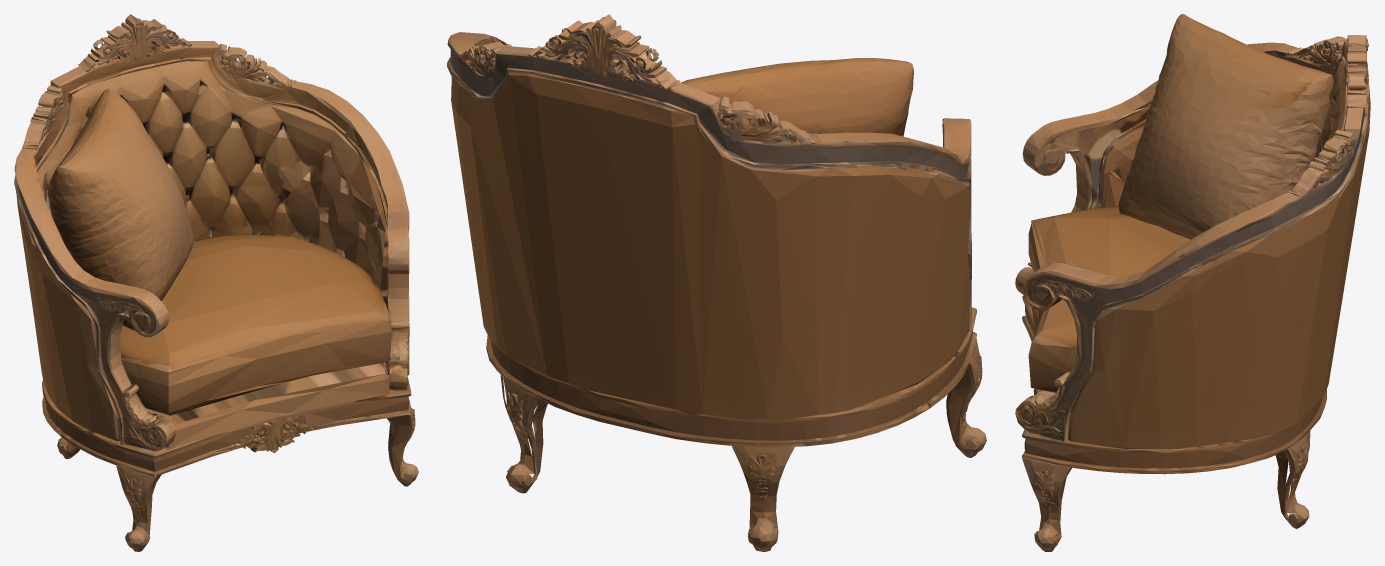
File: edited_mesh.glb
3 views of the same model, side by side, from view 1: azimuth 30°, elevation 25°; view 2: azimuth 150°, elevation 25°; view 3: azimuth 270°, elevation 25° (orthographic). The views are drawn at different scales.
Visible parts, largest first — view 1: solid_001_wire; view 2: solid_001_wire; view 3: solid_001_wire.
Boxes of the visible parts, x1,y1,x2,y2 form: solid_001_wire: (14, 14, 418, 551); solid_001_wire: (447, 14, 986, 551); solid_001_wire: (1015, 14, 1370, 551).
Bounding box in the file's own units: 1.26 × 1.37 × 0.9974.
1 material, 1 textured.
